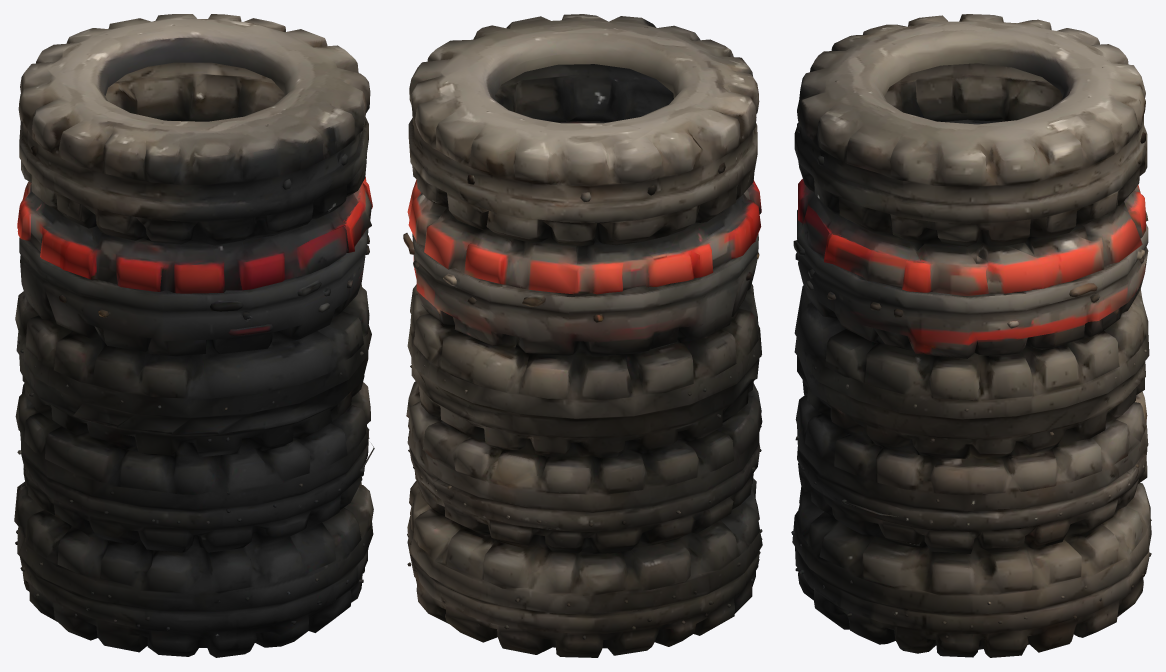
The model's file is tire_stack.glb.
The picture shows the model from 3 angles, left to right: view 1: azimuth 30°, elevation 25°; view 2: azimuth 150°, elevation 25°; view 3: azimuth 270°, elevation 25°; orthographic projection.
Visible parts, largest first — view 1: tripo_node_98708e67-03ca-4d7b-8476-9ad8e826569d; view 2: tripo_node_98708e67-03ca-4d7b-8476-9ad8e826569d; view 3: tripo_node_98708e67-03ca-4d7b-8476-9ad8e826569d.
Boxes of the visible parts, <box> form: tripo_node_98708e67-03ca-4d7b-8476-9ad8e826569d: <box>14,14,374,657</box>; tripo_node_98708e67-03ca-4d7b-8476-9ad8e826569d: <box>403,14,762,657</box>; tripo_node_98708e67-03ca-4d7b-8476-9ad8e826569d: <box>791,14,1151,657</box>.
Bounding box in the file's own units: 0.7625 × 1.2 × 0.7625.
Materials: 1 (1 with a texture image).
